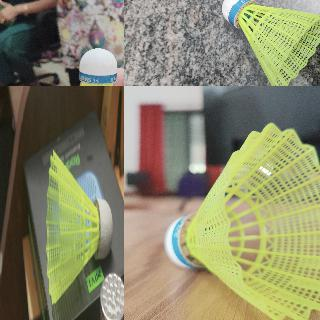shuttlecock: (164, 121, 319, 319), (46, 149, 112, 304), (222, 0, 319, 85), (53, 47, 123, 85)
